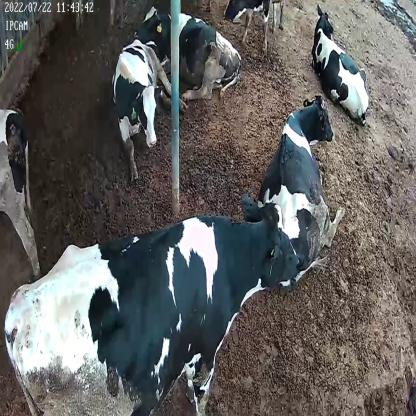cow: (4, 185, 302, 413), (256, 88, 348, 291), (111, 41, 187, 183), (144, 3, 244, 98), (312, 0, 370, 124)
